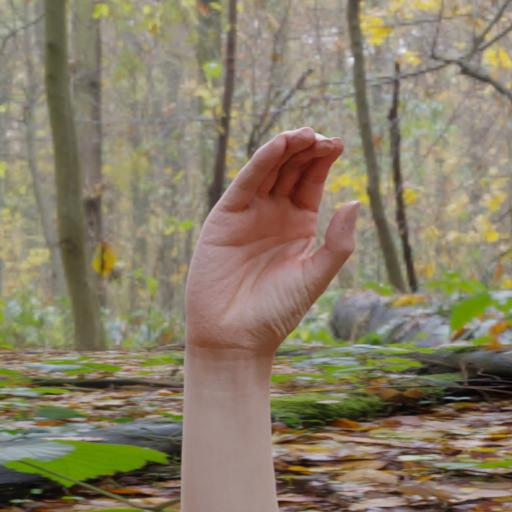C: (174, 119, 380, 375)
